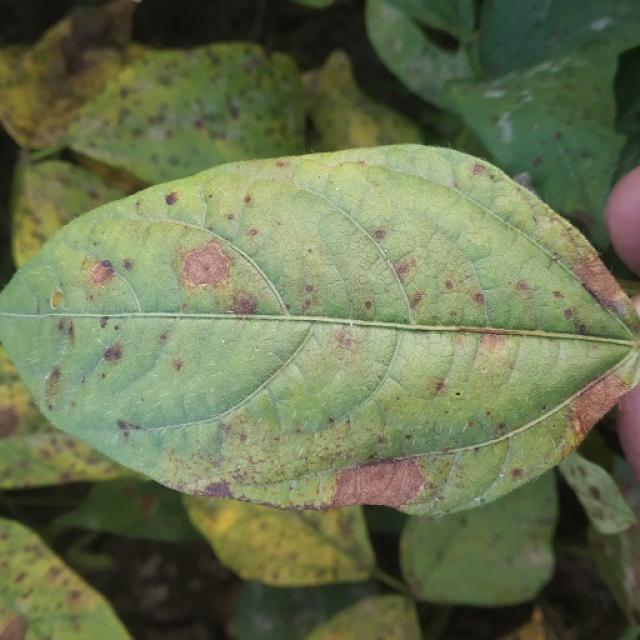Anthracnose: (144, 453, 477, 514), (512, 196, 640, 345), (174, 230, 276, 319), (324, 452, 428, 513), (321, 457, 430, 509), (564, 366, 634, 444), (566, 249, 632, 319), (175, 236, 236, 301), (467, 333, 519, 393), (181, 240, 235, 291), (316, 449, 437, 470), (564, 210, 596, 240), (44, 361, 66, 401), (477, 330, 508, 358), (297, 281, 322, 314), (0, 400, 21, 438), (393, 255, 420, 284), (0, 613, 28, 640), (89, 259, 115, 285), (231, 293, 257, 315), (200, 480, 231, 498), (336, 328, 358, 350), (102, 342, 124, 364), (607, 296, 630, 317), (57, 317, 76, 341), (138, 493, 157, 515), (513, 279, 533, 297), (49, 288, 65, 310), (570, 414, 583, 440), (116, 418, 134, 432), (165, 191, 180, 206), (410, 292, 424, 308), (471, 162, 486, 176), (588, 485, 601, 500), (372, 228, 386, 241), (434, 381, 446, 396), (511, 467, 524, 479), (473, 292, 485, 305), (173, 359, 184, 371), (247, 228, 258, 237)
Blackgram: (0, 146, 639, 520)
